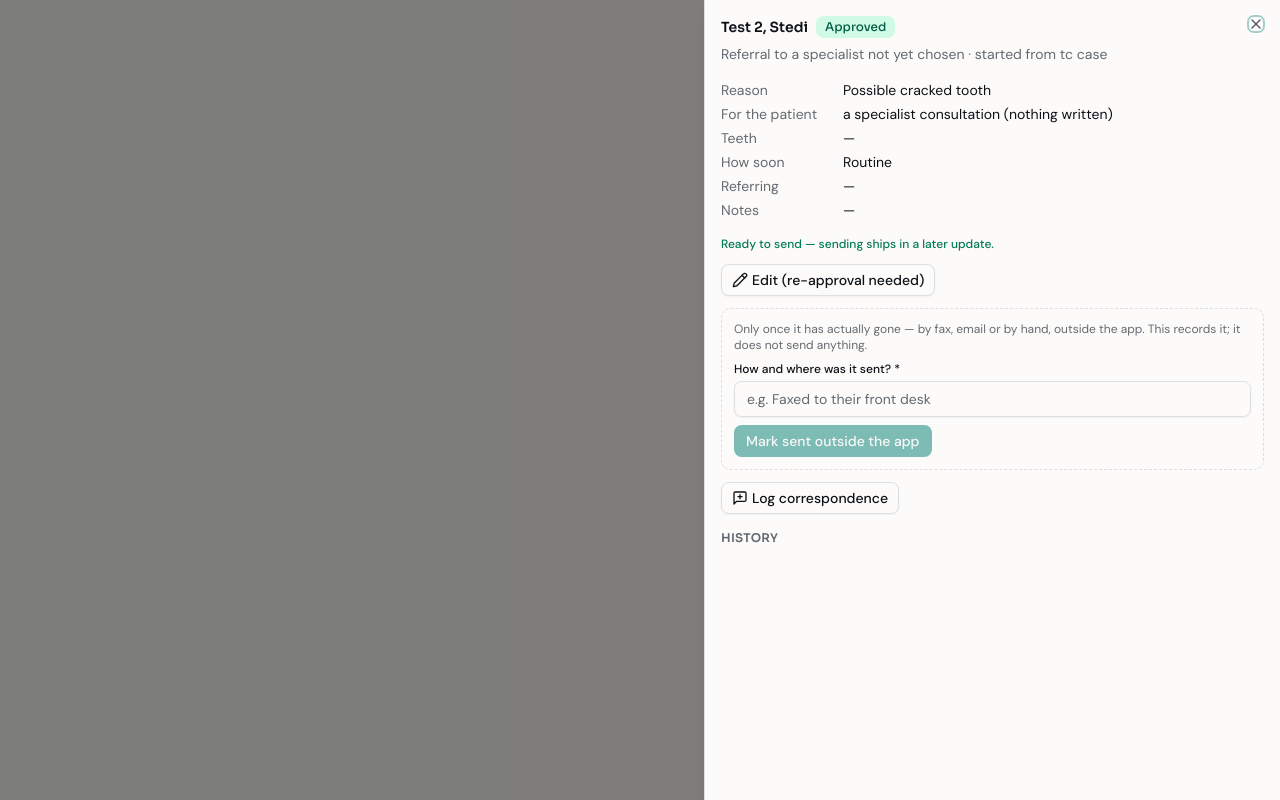
Test: the hub's staff edit › a reopen (approved → re-approval) offers no files: approved is not attachable
The width and height of the screenshot is (1280, 800).
Expected: the element with test id "tc-hub-actions" is shown, [721,236,1264,514]
Step 1. Click the button "Edit (re-approval needed)" → (828, 280), box [721,264,935,296]
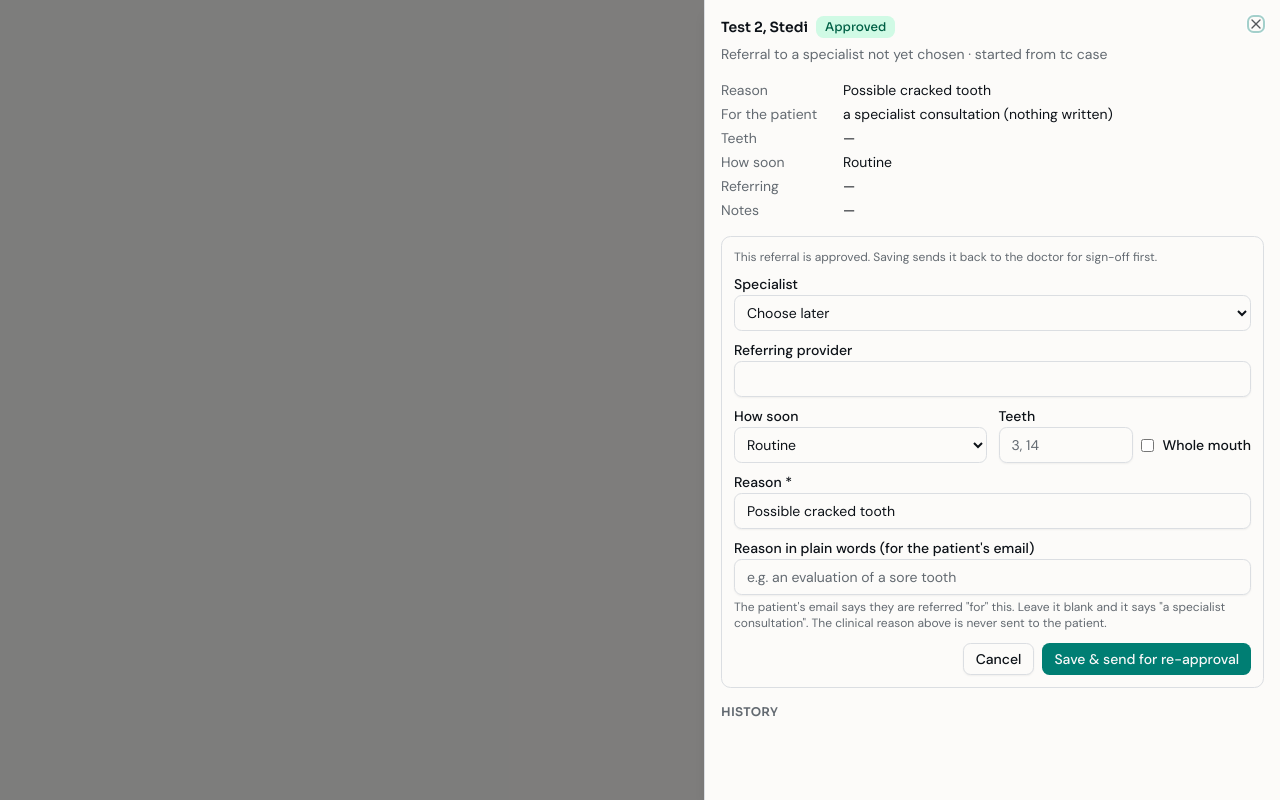
Expected: the element with test id "referral-fields-form" is shown, [721,236,1264,688]
